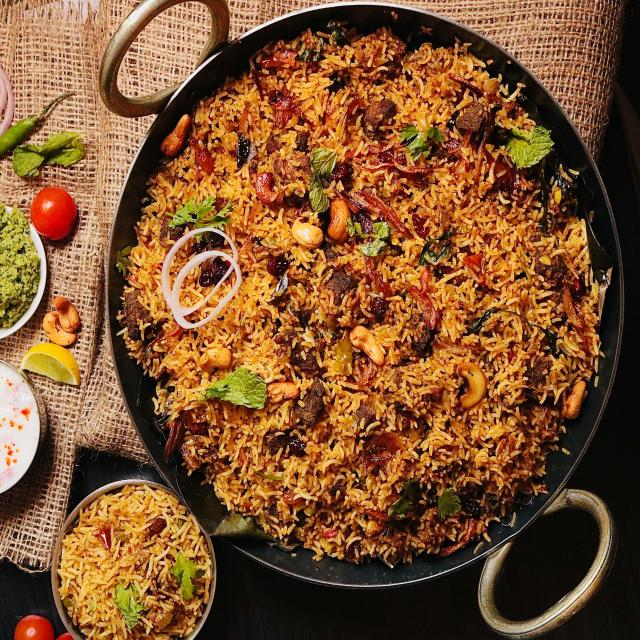Biryani: (120, 17, 602, 561)
